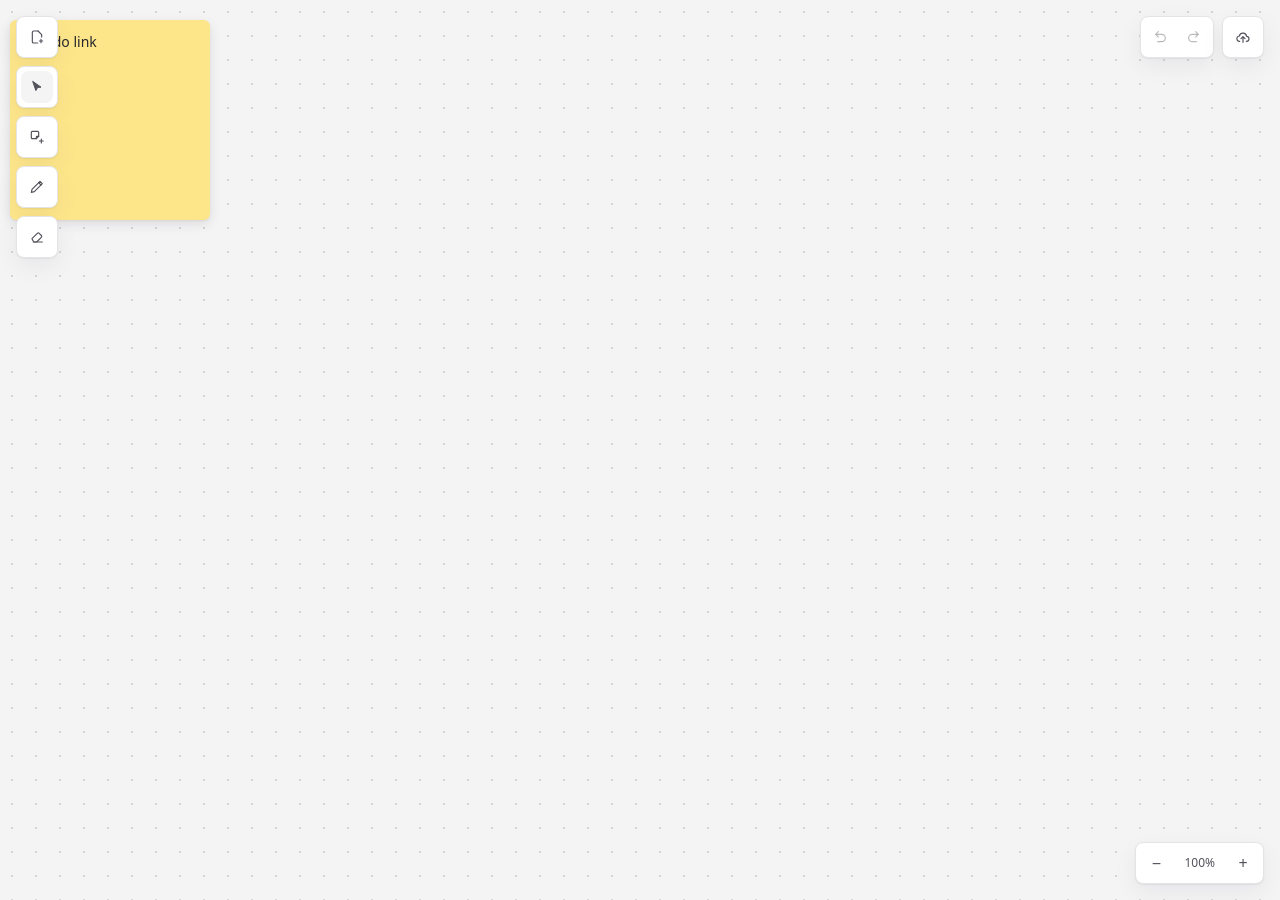
Scenario: SharedBoard › deixa começar um quadro novo sem tocar no registro remoto nem no autosave da raiz
The image size is (1280, 900).
Check: the text "veio do link" is shown, box [10, 20, 210, 220]
What coordinates should you click on to do the following:
click the button named "Start a new board"
I would click on:
 (37, 37)
Its box is [21, 21, 53, 53].
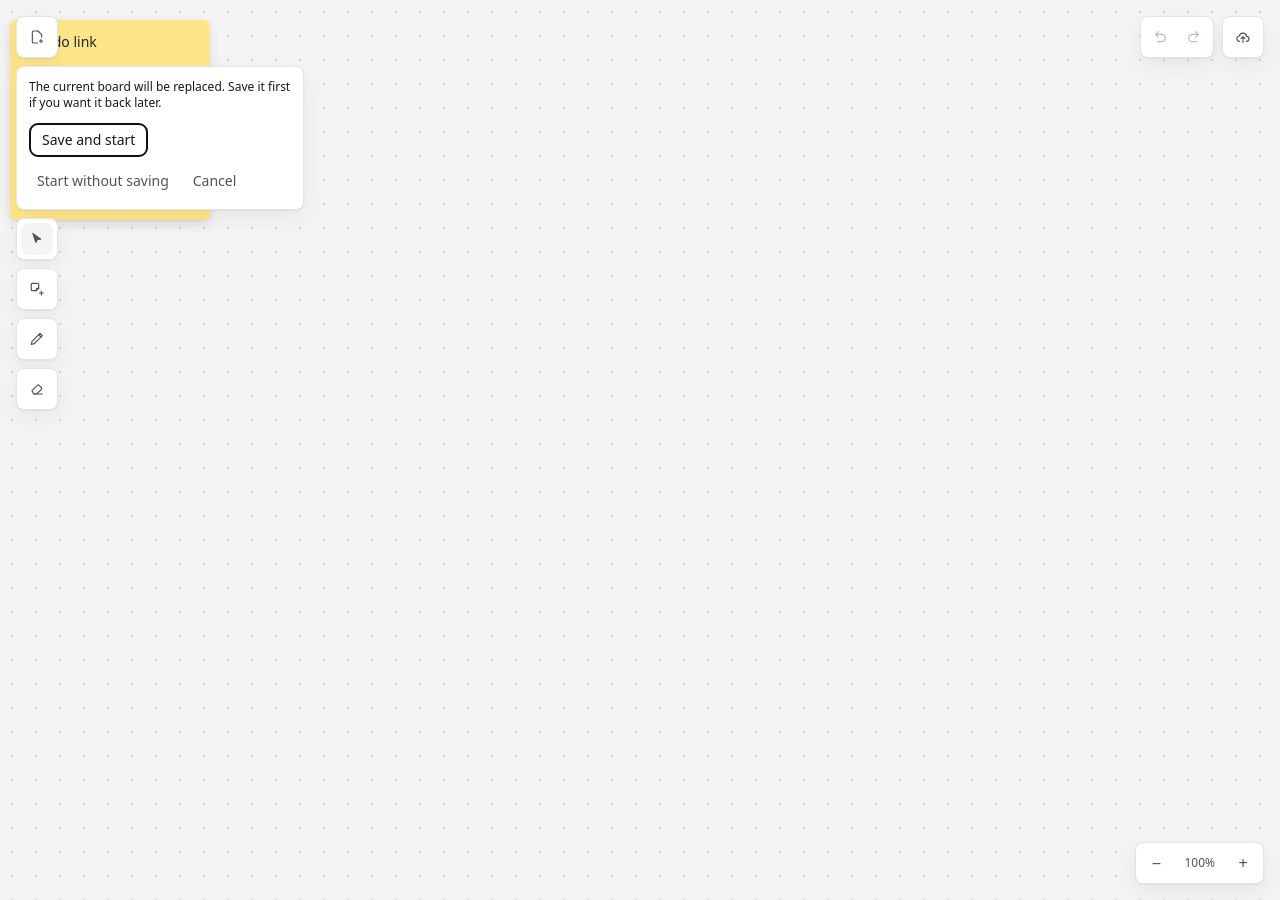
What coordinates should you click on to do the following:
click the button "Start without saving"
I would click on:
 (103, 181)
Its box is [29, 165, 177, 197].
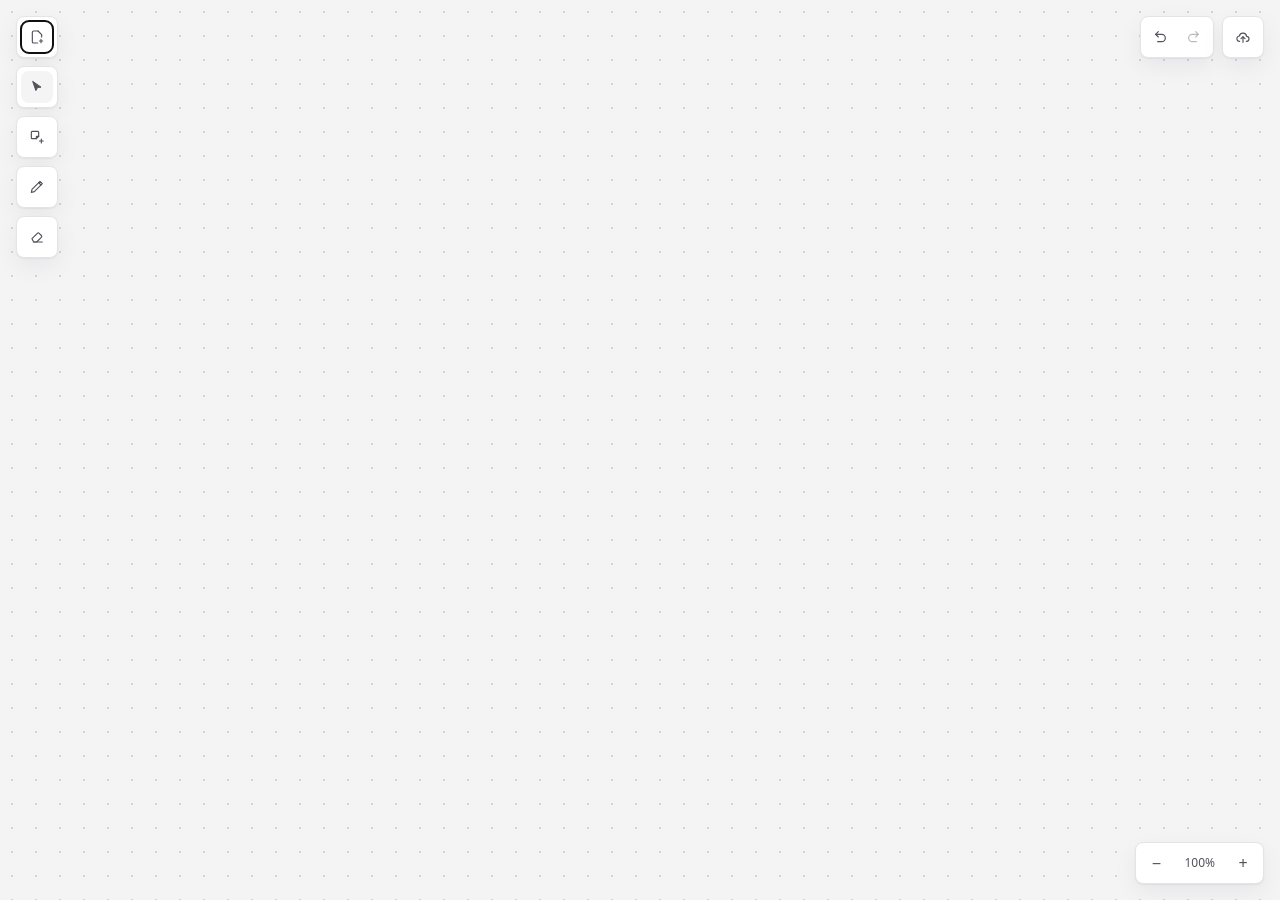
Check: the text "veio do link" is gone
